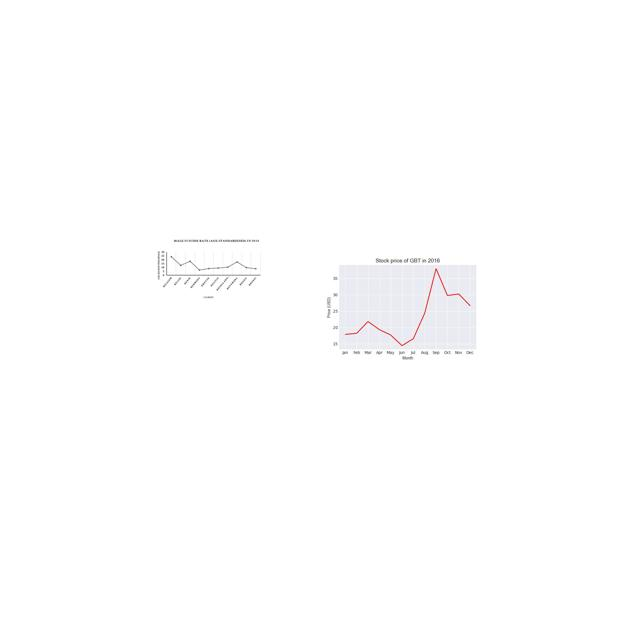Graph: (317, 240, 494, 373), (156, 237, 262, 300)
